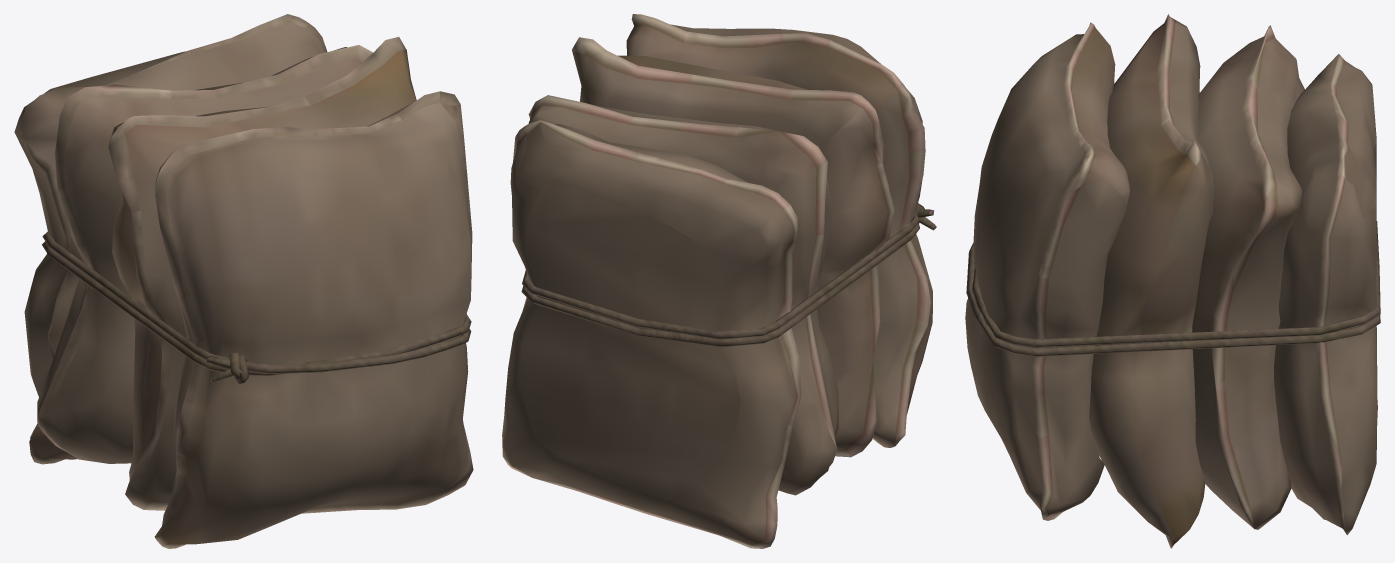
Rendered from GEN_PRO_Bag_Stack_02A_LOD0-transformed.glb.
The picture shows the model from 3 angles, left to right: view 1: azimuth 30°, elevation 25°; view 2: azimuth 150°, elevation 25°; view 3: azimuth 270°, elevation 25°; orthographic projection. The views are drawn at different scales.
Visible parts, largest first — view 1: GEN_PRO_Bag_Stack_02A_LOD0; view 2: GEN_PRO_Bag_Stack_02A_LOD0; view 3: GEN_PRO_Bag_Stack_02A_LOD0.
Boxes of the visible parts, left/top/right/bottom form: GEN_PRO_Bag_Stack_02A_LOD0: left=14, top=14, right=473, bottom=548; GEN_PRO_Bag_Stack_02A_LOD0: left=502, top=14, right=936, bottom=548; GEN_PRO_Bag_Stack_02A_LOD0: left=965, top=14, right=1380, bottom=548.
Size of the model in its own units: 0.0109 by 0.0132 by 0.012.
1 material, 1 textured.
